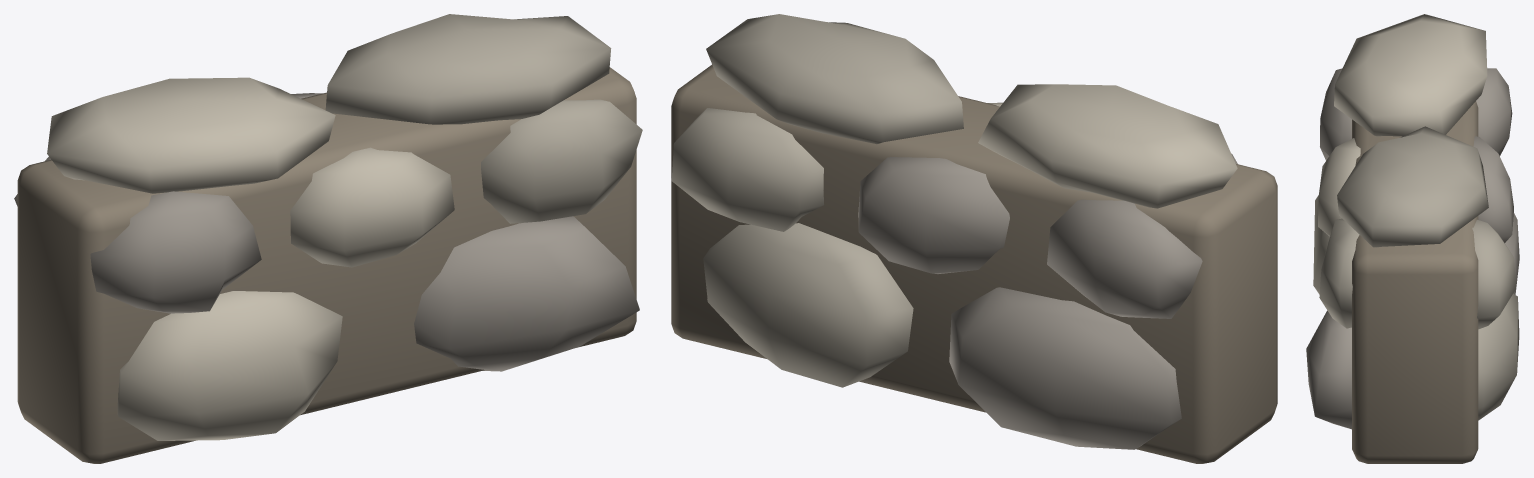
The model's file is wall.glb.
3 views of the same model, side by side, from view 1: azimuth 30°, elevation 25°; view 2: azimuth 150°, elevation 25°; view 3: azimuth 270°, elevation 25° (orthographic). The views are drawn at different scales.
Visible parts, largest first — view 1: wall; view 2: wall; view 3: wall.
Part boxes in pixels (left/top/right/bottom): wall: left=14, top=14, right=642, bottom=463; wall: left=671, top=14, right=1277, bottom=463; wall: left=1306, top=14, right=1519, bottom=463.
Bounding box in the file's own units: 1 × 0.5533 × 0.4056.
